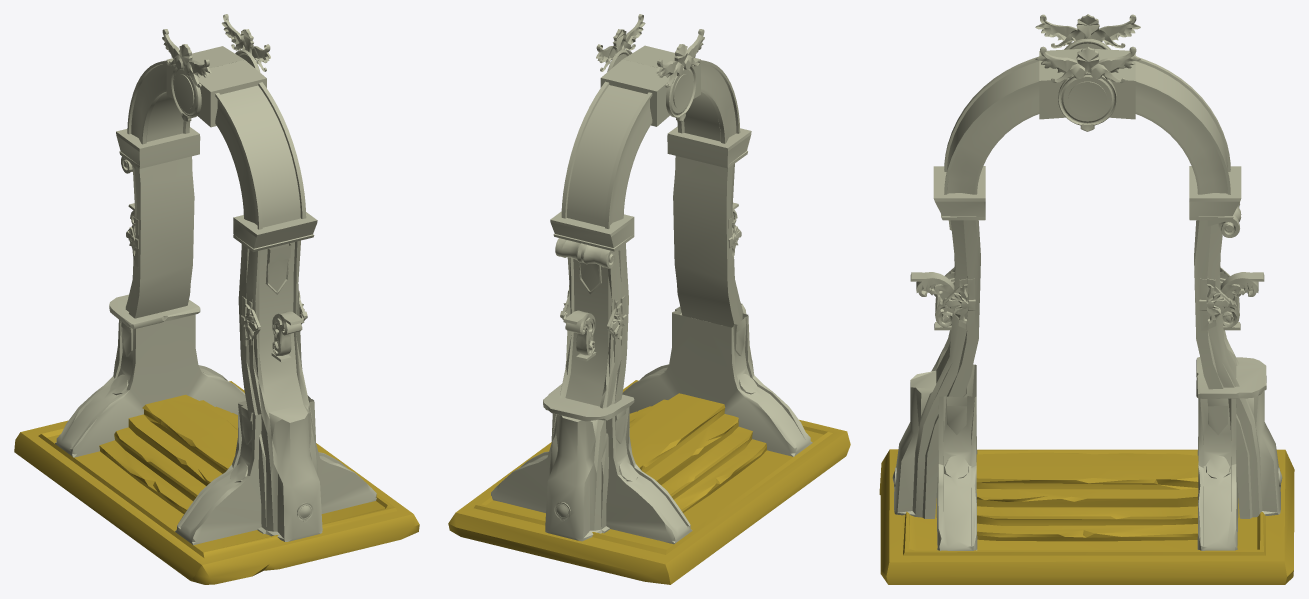
File: SM_alter.fbx
3 views of the same model, side by side, from view 1: azimuth 30°, elevation 25°; view 2: azimuth 150°, elevation 25°; view 3: azimuth 270°, elevation 25° (orthographic). The views are drawn at different scales.
Parts seen in each view (by area): view 1: SM_alterdoor; view 2: SM_alterdoor; view 3: SM_alterdoor.
Part boxes in pixels (left/top/right/bottom): SM_alterdoor: left=14, top=14, right=419, bottom=584; SM_alterdoor: left=448, top=14, right=850, bottom=584; SM_alterdoor: left=879, top=14, right=1294, bottom=584.
Bounding box in the file's own units: 476 × 932 × 707.
